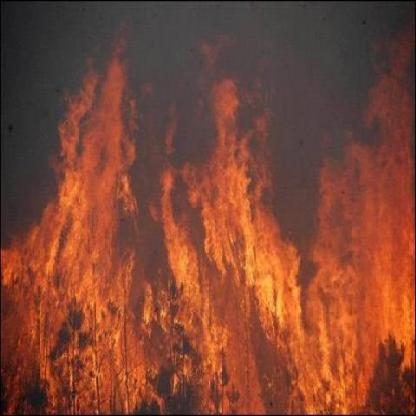fire: (11, 41, 413, 412)
smoke: (8, 6, 372, 117)
